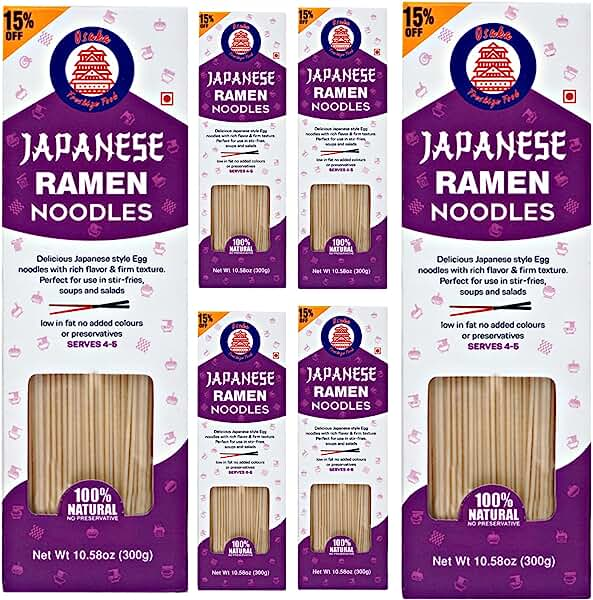non_veg: (561, 85, 578, 105)
